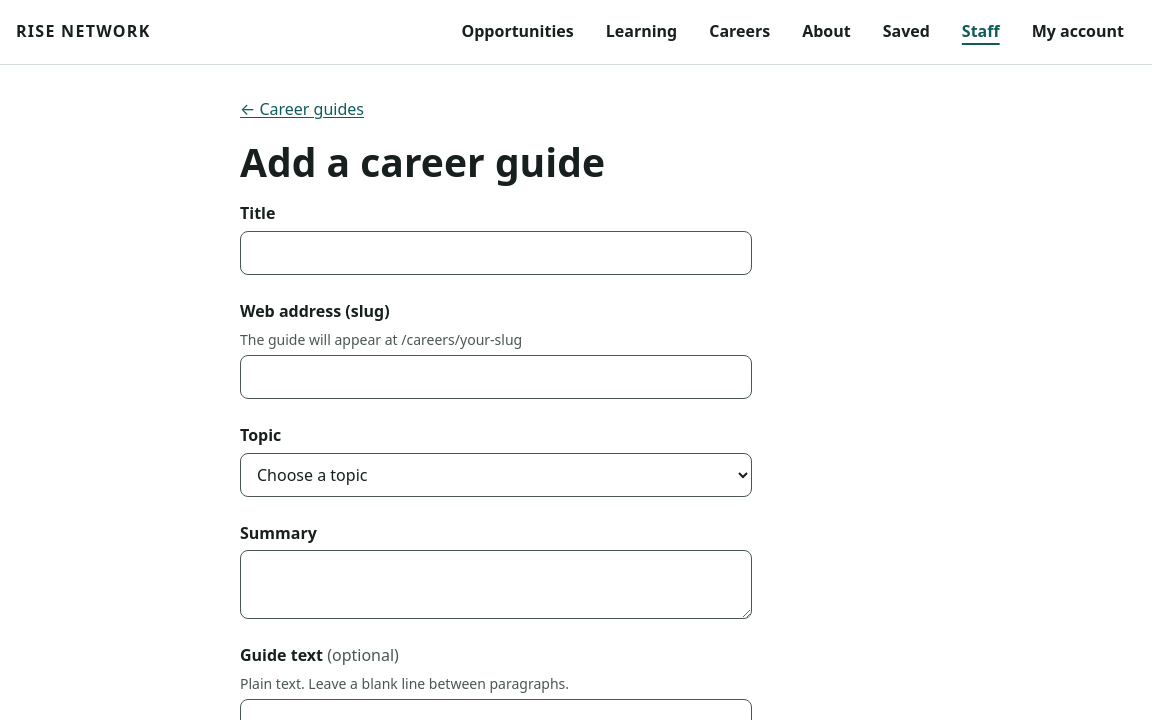
Scenario: content management (staff only) › suggests a slug from the career guide title
Expected: the heading "Add a career guide" is shown, 240,135 -> 605,188
Type "Preparing for interviews!" into the field labelled "Title".
click(496, 253); type("Preparing for interviews!")  # box 240,231 -> 752,275
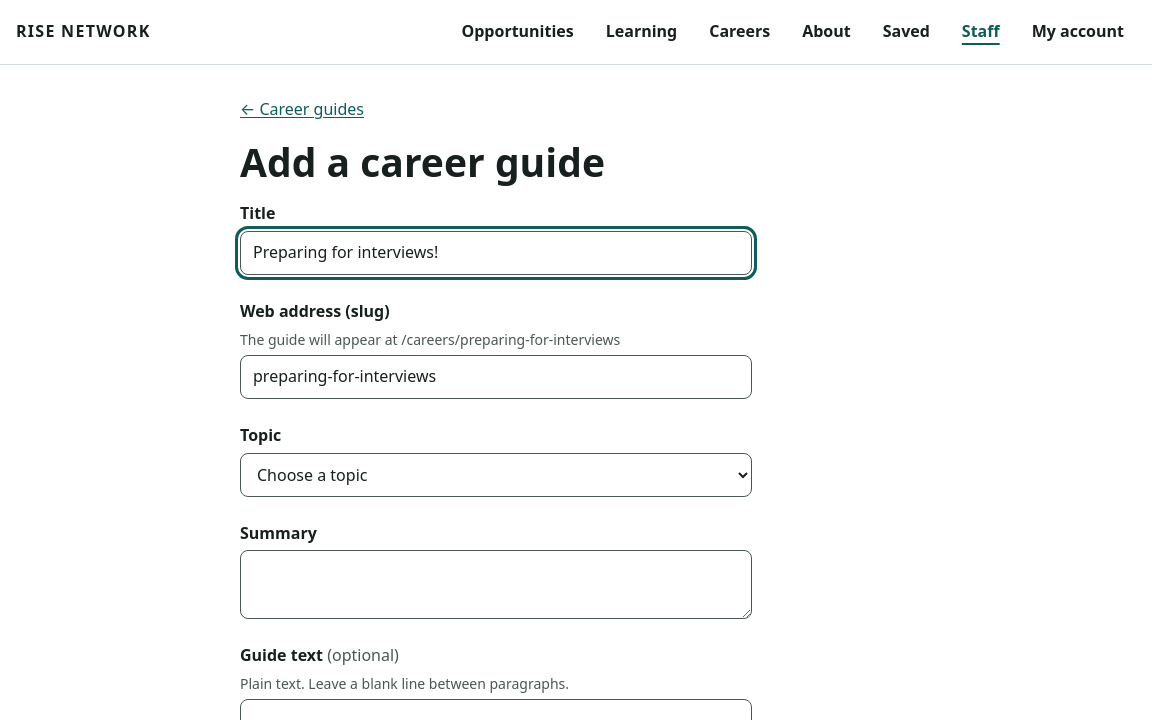
Result: the field labelled "Web address (slug)" holds "preparing-for-interviews" at 240,355 -> 752,399
